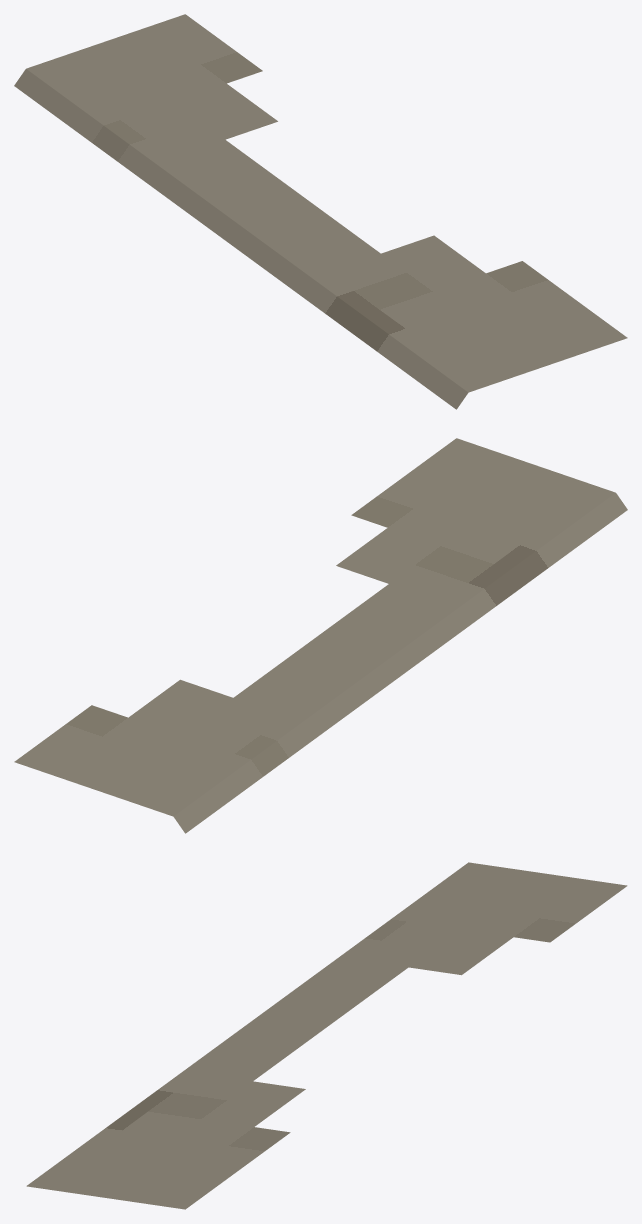
3 views of the same model, one above another, from view 1: azimuth 30°, elevation 25°; view 2: azimuth 150°, elevation 25°; view 3: azimuth 330°, elevation 25° (orthographic).
Bounding box in the file's own units: 0.2236 × 0.0373 × 1.
1 material, 1 textured.
